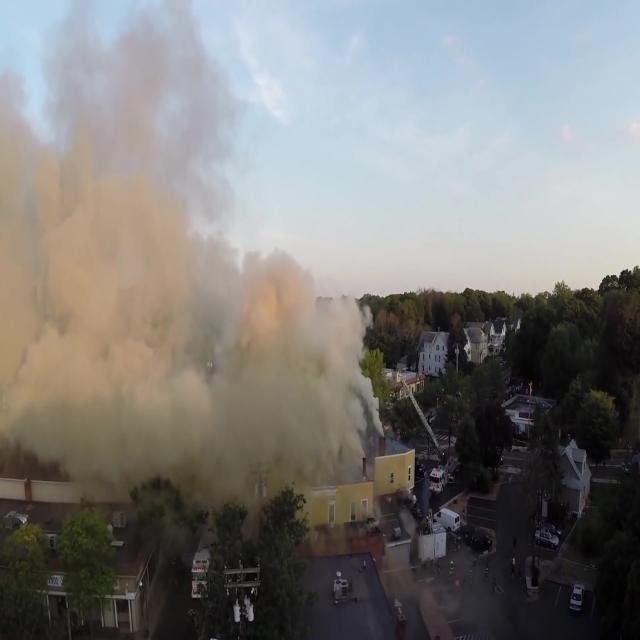Smoke: (4, 69, 339, 497)
